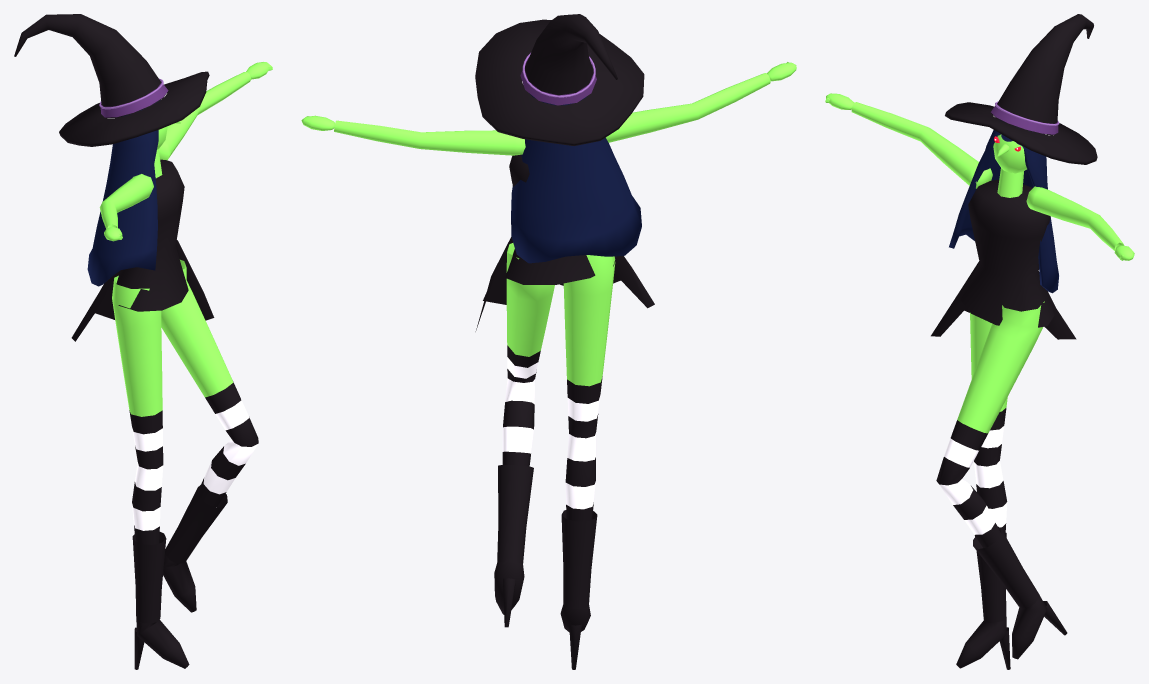
The model's file is witch_spin.glb.
The picture shows the model from 3 angles, left to right: view 1: azimuth 30°, elevation 25°; view 2: azimuth 150°, elevation 25°; view 3: azimuth 270°, elevation 25°; orthographic projection. The views are drawn at different scales.
Visible parts, largest first — view 1: HWG_Witch_spin; view 2: HWG_Witch_spin; view 3: HWG_Witch_spin.
Boxes of the visible parts, bbox=[...] form: HWG_Witch_spin: bbox=[14, 14, 272, 669]; HWG_Witch_spin: bbox=[301, 14, 796, 669]; HWG_Witch_spin: bbox=[825, 14, 1134, 669].
Size of the model in its own units: 0.6815 by 1.34 by 0.5945.
